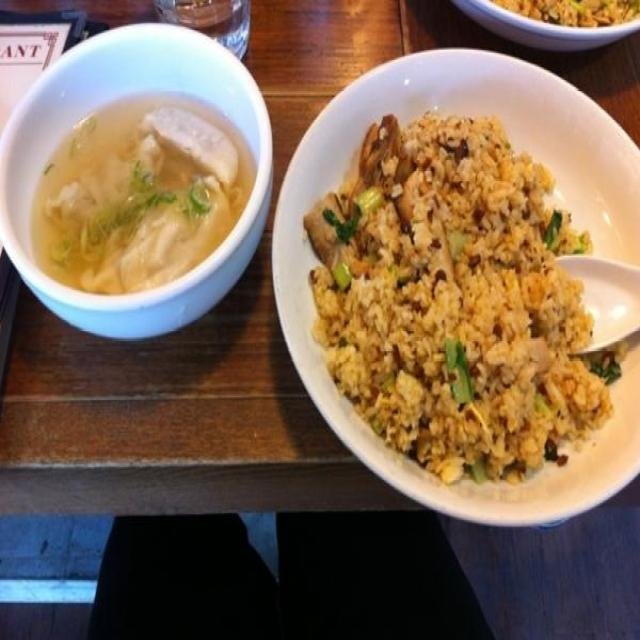汤锅炖物: (0, 24, 273, 344)
米饭主食: (264, 38, 640, 524)
